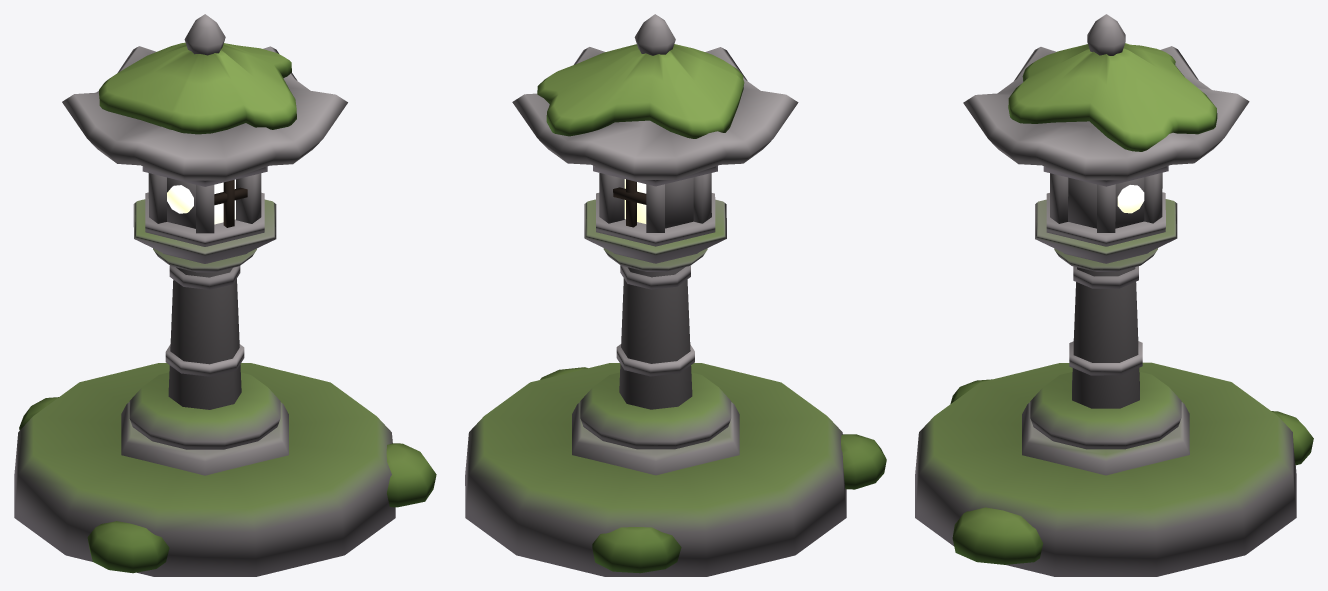
The model's file is rg-bamboo-lantern.glb.
The picture shows the model from 3 angles, left to right: view 1: azimuth 30°, elevation 25°; view 2: azimuth 150°, elevation 25°; view 3: azimuth 270°, elevation 25°; orthographic projection.
Parts seen in each view (by area): view 1: body, glow; view 2: body; view 3: body, glow.
Boxes of the visible parts, x1,y1,x2,y2 form: body: (14,14,436,576); glow: (167,179,235,224); body: (465,14,886,576); body: (915,14,1313,576); glow: (1117,185,1144,213).
Size of the model in its own units: 0.9958 by 1.35 by 1.01.
